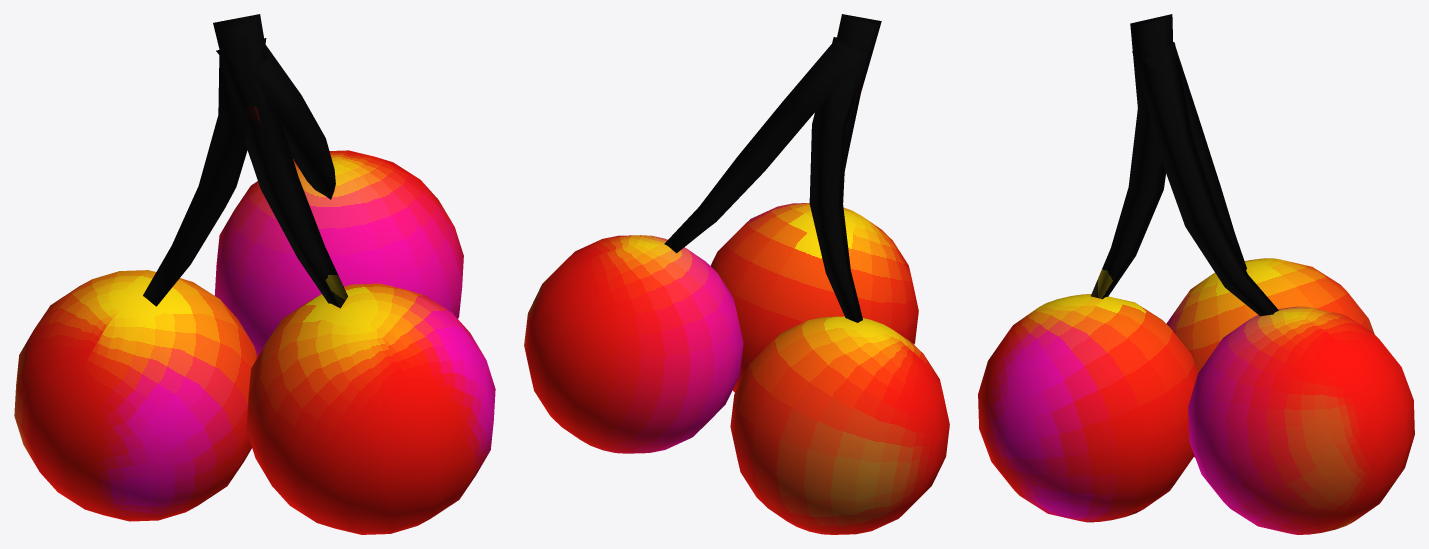
File: yag_01.fbx
3 renders of one model, left to right at view 1: azimuth 30°, elevation 25°; view 2: azimuth 150°, elevation 25°; view 3: azimuth 270°, elevation 25°, orthographic. The views are drawn at different scales.
Visible parts, largest first — view 1: Cylinder.002; view 2: Cylinder.002; view 3: Cylinder.002.
Boxes of the visible parts, x1,y1,x2,y2 form: Cylinder.002: [14, 14, 495, 534]; Cylinder.002: [524, 14, 949, 534]; Cylinder.002: [978, 14, 1414, 534].
Size of the model in its own units: 398 by 459 by 382.
